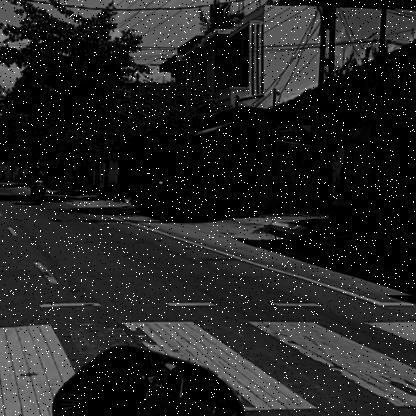motorcycle: (29, 178, 48, 209)
